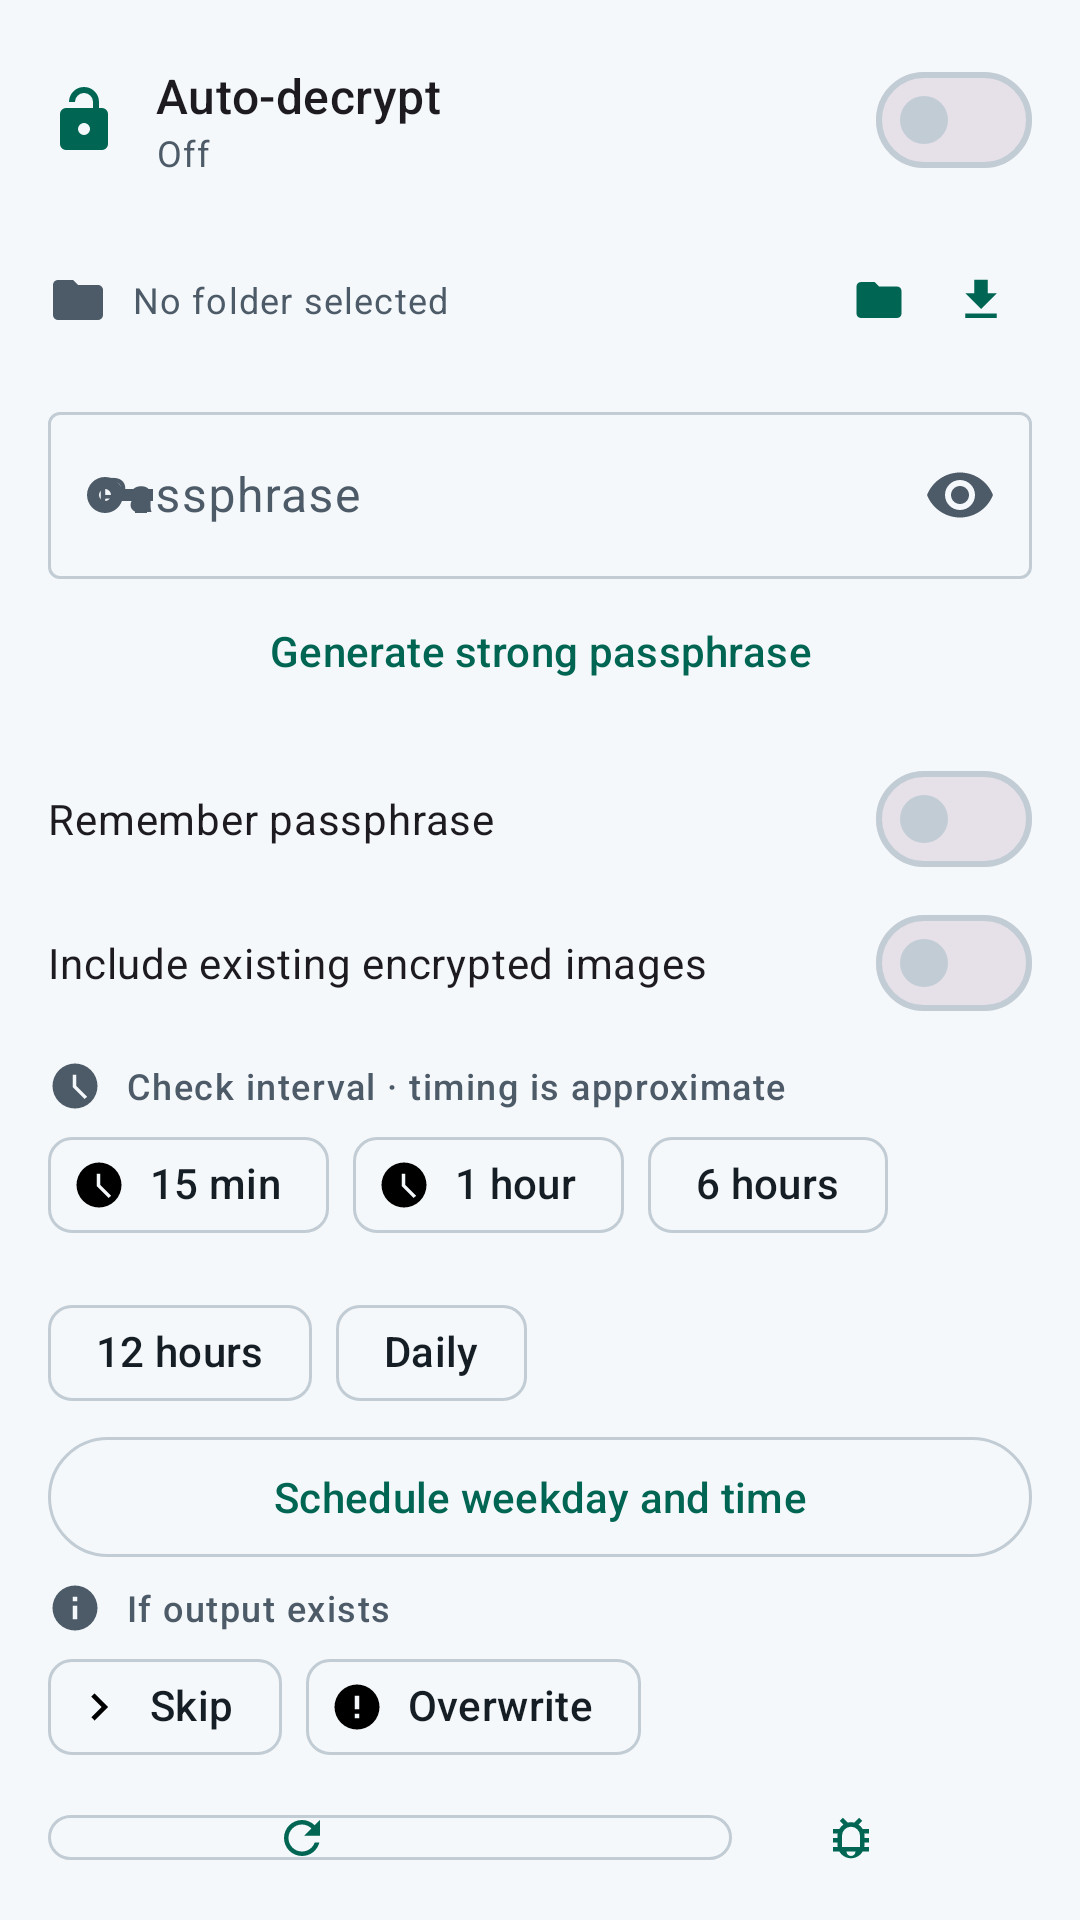

Screen size 1080px x 1920px. Icon name, then its center in pixels as (x,y):
Choose input folder: (879,300)
clock: (75,1086)
info: (75,1608)
